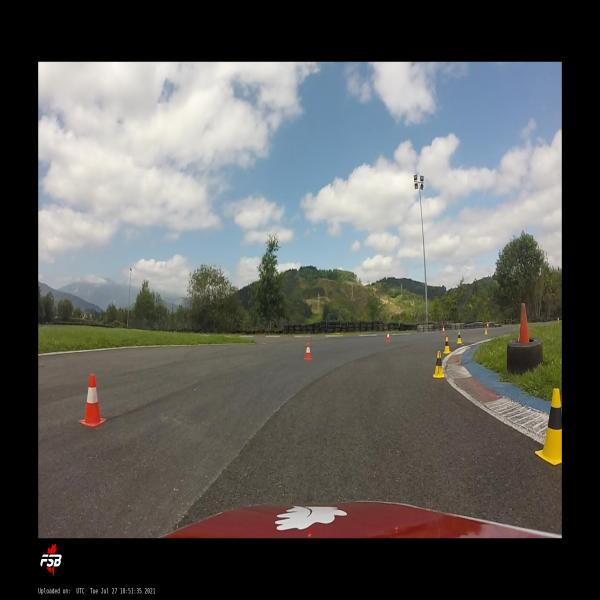orange_cone: (78, 373, 107, 428), (304, 342, 312, 360), (386, 333, 390, 342), (442, 326, 445, 334), (487, 323, 489, 329)
unknown_cone: (484, 327, 488, 335)
yellow_cone: (534, 388, 562, 466), (433, 350, 445, 378), (443, 336, 451, 353), (456, 330, 463, 344)
